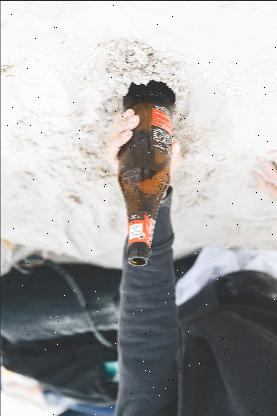Others: (116, 78, 176, 266)
